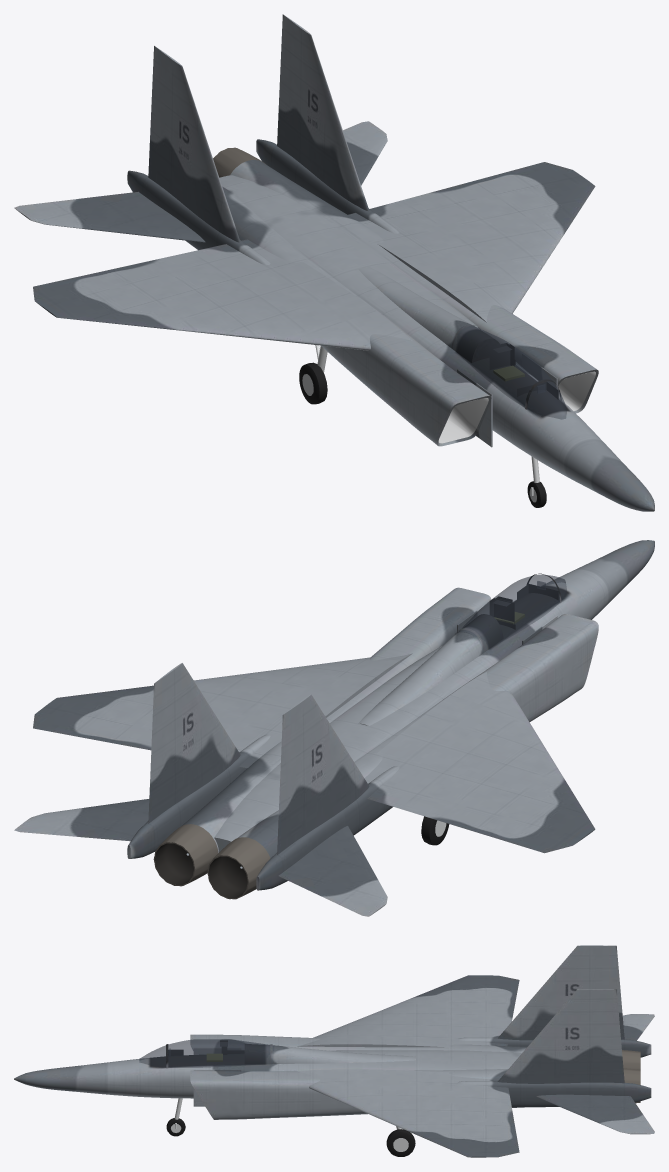
3 renders of one model, top to bottom at view 1: azimuth 30°, elevation 25°; view 2: azimuth 150°, elevation 25°; view 3: azimuth 270°, elevation 25°, orthographic. The views are drawn at different scales.
Visible parts, largest first — view 1: F15_Airframe, F15_Canopy, F15_Intakes, F15_Tires, F15_Cockpit, F15_Nozzles; view 2: F15_Airframe, F15_Canopy, F15_Nozzles, F15_Nozzle_Interior, F15_Cockpit; view 3: F15_Airframe, F15_Canopy, F15_Tires, F15_Nozzles, F15_Landing_Gear.
Part boxes in pixels (bbox=[...]): F15_Airframe: bbox=[14, 14, 654, 511]; F15_Canopy: bbox=[456, 326, 566, 419]; F15_Intakes: bbox=[438, 371, 595, 443]; F15_Tires: bbox=[299, 362, 546, 507]; F15_Cockpit: bbox=[489, 343, 558, 399]; F15_Nozzles: bbox=[213, 147, 265, 177]; F15_Airframe: bbox=[14, 540, 654, 916]; F15_Canopy: bbox=[458, 574, 566, 648]; F15_Nozzles: bbox=[153, 824, 270, 899]; F15_Nozzle_Interior: bbox=[155, 843, 247, 898]; F15_Cockpit: bbox=[489, 584, 558, 629]; F15_Airframe: bbox=[14, 945, 654, 1157]; F15_Canopy: bbox=[139, 1039, 273, 1067]; F15_Tires: bbox=[166, 1118, 415, 1156]; F15_Nozzles: bbox=[622, 1050, 640, 1103]; F15_Landing_Gear: bbox=[171, 1098, 408, 1151].
Size of the model in its own units: 13.04 by 5.64 by 19.46.
10 materials, 1 textured.
